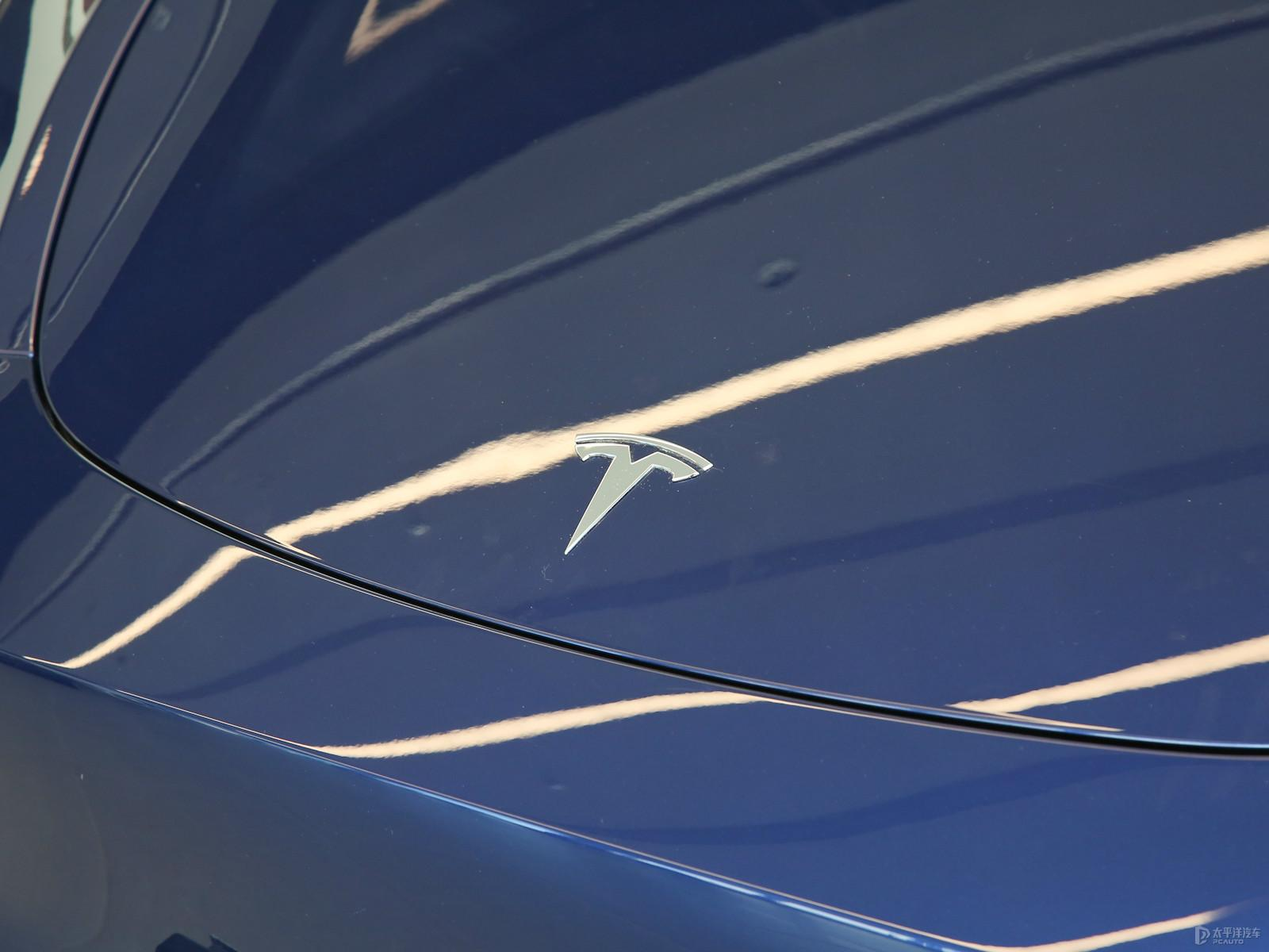Tesla: (564, 432, 715, 555)
